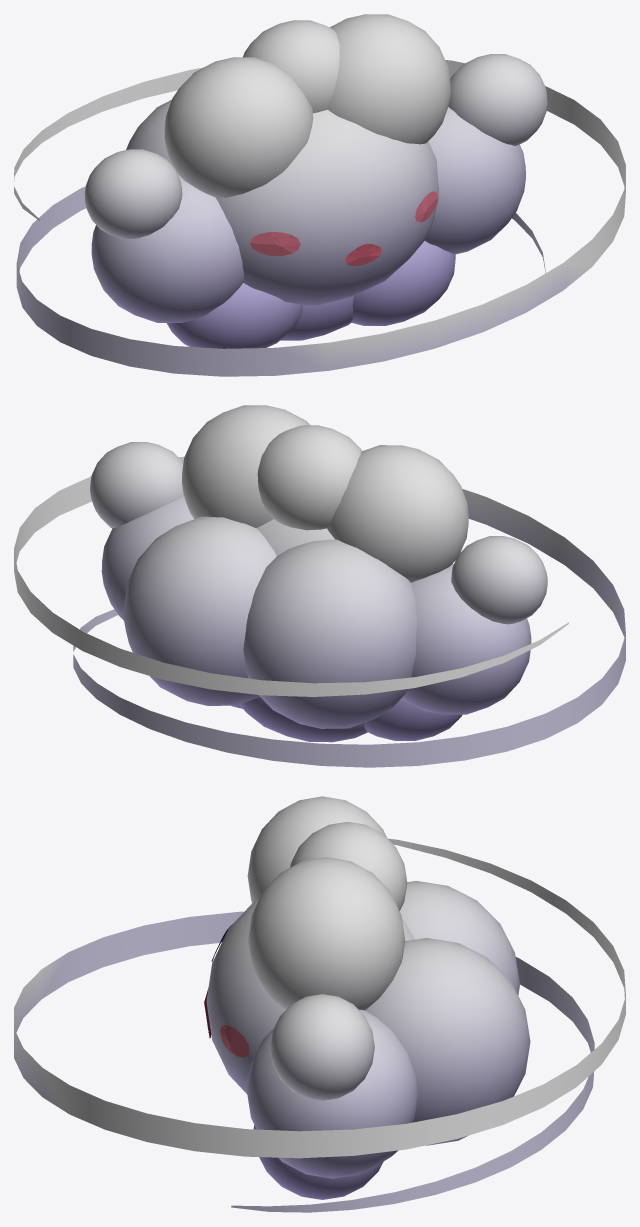
The model's file is rescue_cloud.glb.
3 views of the same model, one above another, from view 1: azimuth 30°, elevation 25°; view 2: azimuth 150°, elevation 25°; view 3: azimuth 270°, elevation 25° (orthographic). The views are drawn at different scales.
Parts seen in each view (by area): view 1: cloud_body, wind_ribbon, face_giggle, face_happy; view 2: cloud_body, wind_ribbon; view 3: cloud_body, wind_ribbon, face_giggle.
Boxes of the visible parts, box(x1,y1,x2,y2) form: cloud_body: box(84, 14, 547, 348); wind_ribbon: box(14, 60, 625, 376); face_giggle: box(250, 191, 438, 265); face_happy: box(267, 199, 433, 257); cloud_body: box(90, 405, 547, 742); wind_ribbon: box(14, 456, 625, 767); cloud_body: box(206, 796, 530, 1199); wind_ribbon: box(14, 838, 625, 1212); face_giggle: box(204, 924, 249, 1057).
Bounding box in the file's own units: 3.24 × 1.75 × 2.94.
